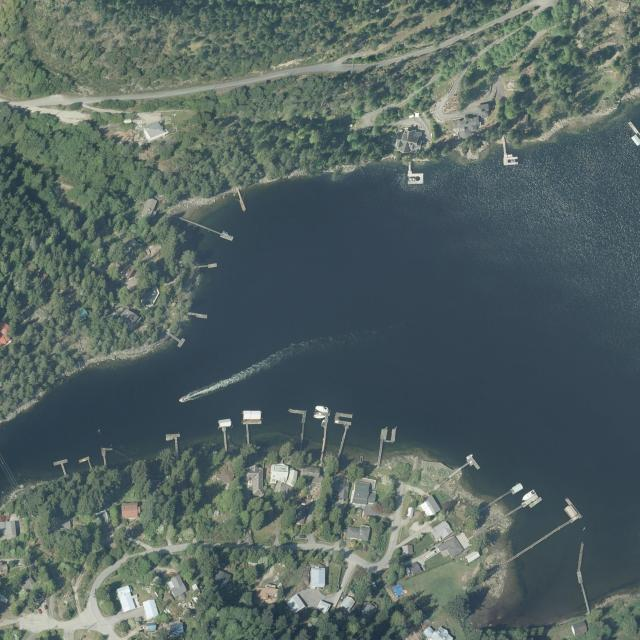ship: (519, 489, 537, 502), (314, 404, 329, 413), (312, 413, 326, 419), (404, 567, 412, 577), (178, 397, 187, 403), (165, 436, 174, 442), (327, 497, 336, 503), (465, 454, 474, 460), (321, 419, 326, 427), (408, 178, 415, 182)
small-vehicle: (371, 579, 376, 587), (28, 607, 34, 613), (169, 572, 176, 576), (140, 123, 147, 127), (44, 604, 48, 610), (340, 595, 344, 601), (137, 120, 143, 124), (300, 535, 307, 538), (38, 609, 42, 614)
